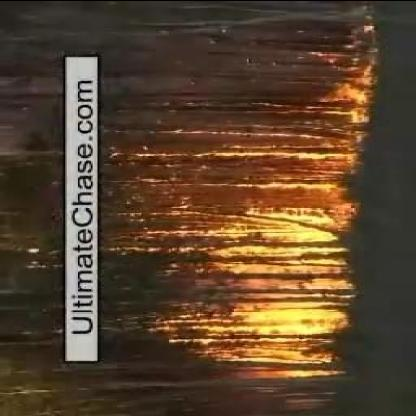foggia-v2-map80-epoch100 - v1 4323: (236, 303, 334, 333), (254, 210, 344, 242)
